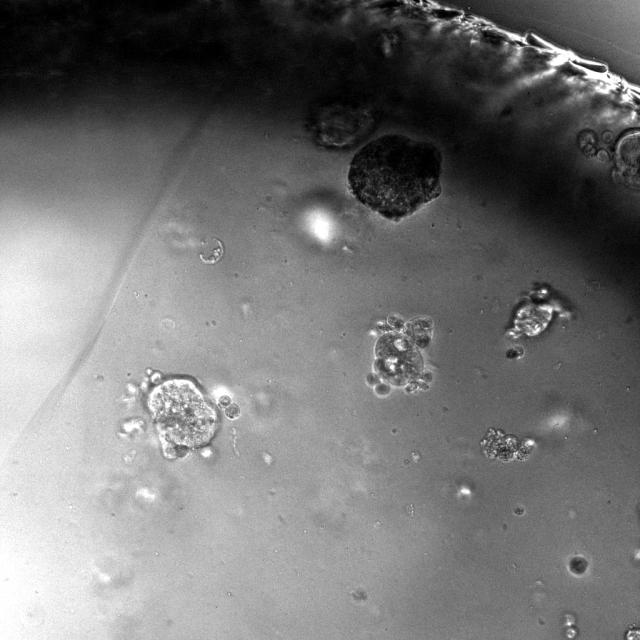organoid: (123, 369, 240, 462), (348, 135, 441, 220), (366, 314, 432, 396), (506, 283, 574, 340), (306, 103, 375, 148), (479, 427, 534, 463), (612, 128, 639, 189), (577, 129, 597, 158), (561, 612, 578, 639), (569, 555, 588, 574), (506, 344, 524, 359), (624, 624, 639, 639), (596, 148, 609, 162), (601, 130, 613, 144), (513, 504, 524, 516)
